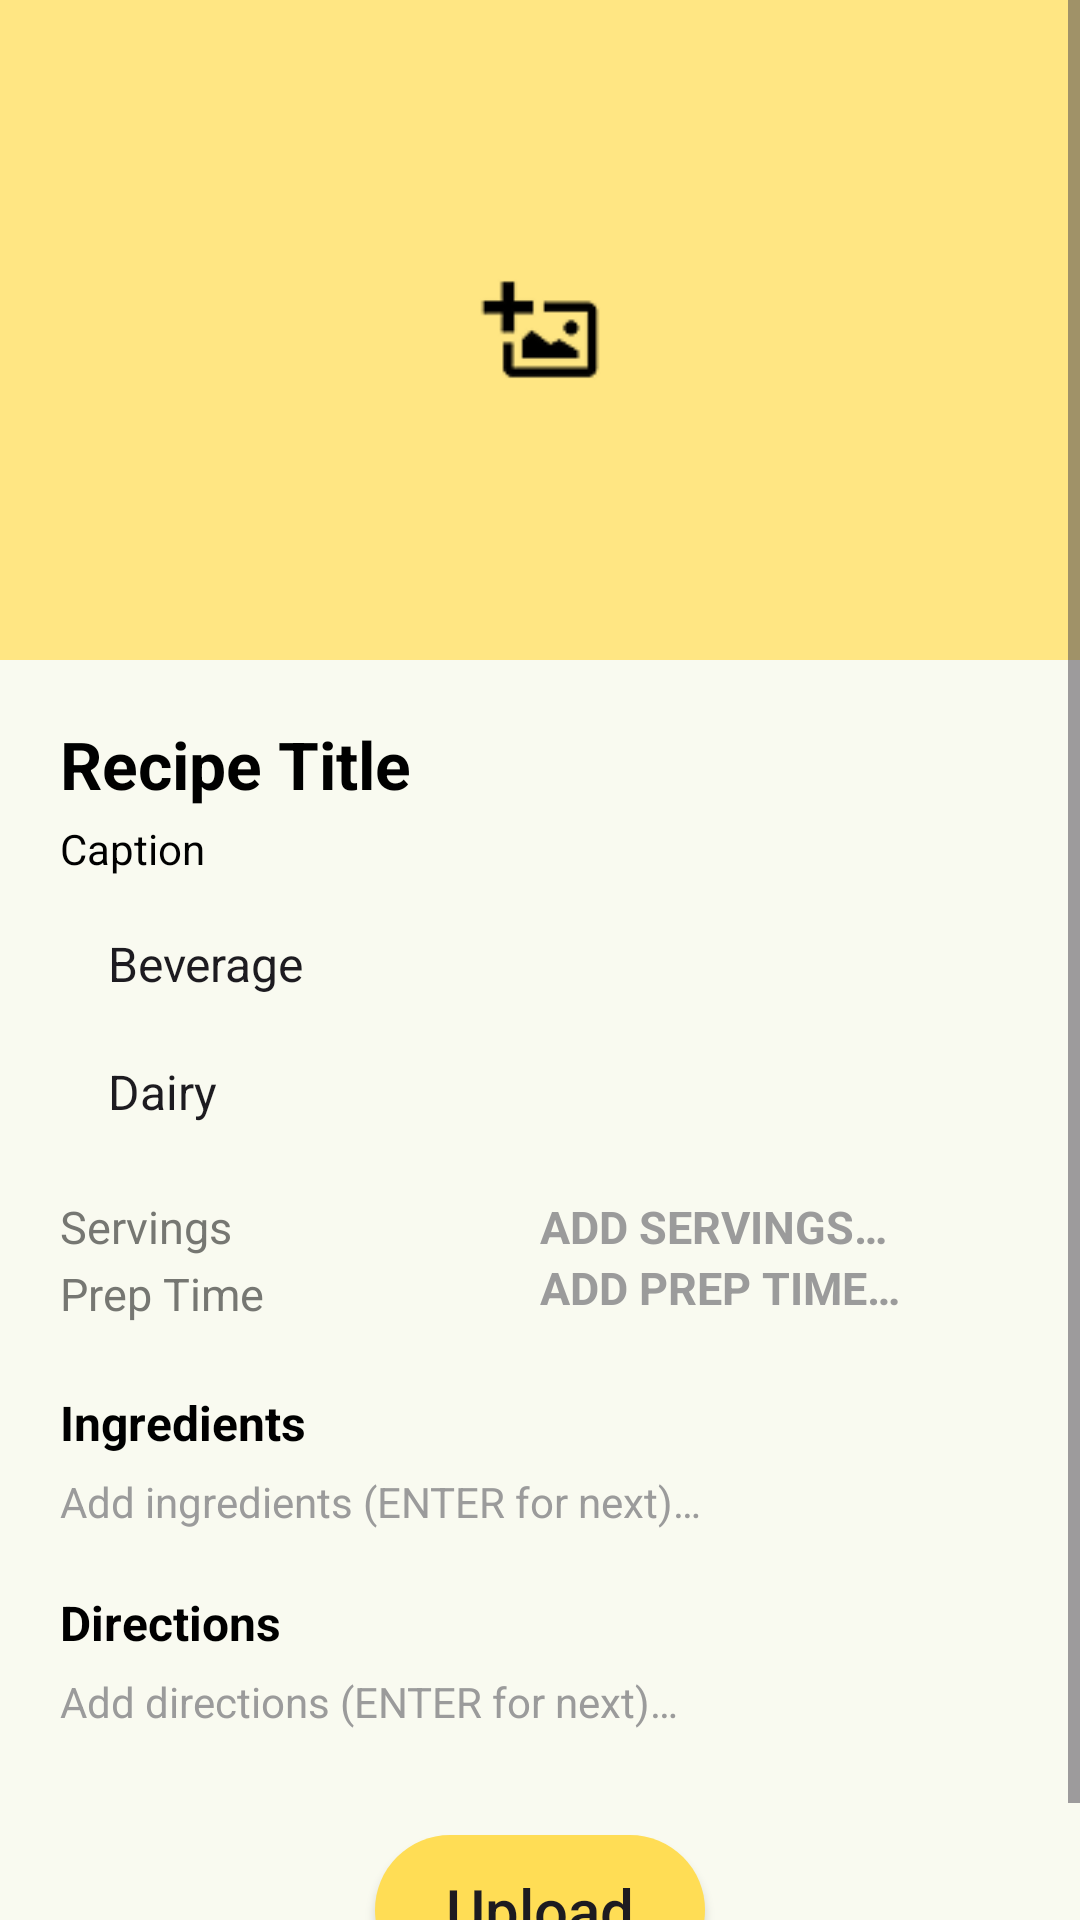

Icon click points for this 1080w x 1920h phone screenshot, format point (x, y):
add: point (540, 329)
